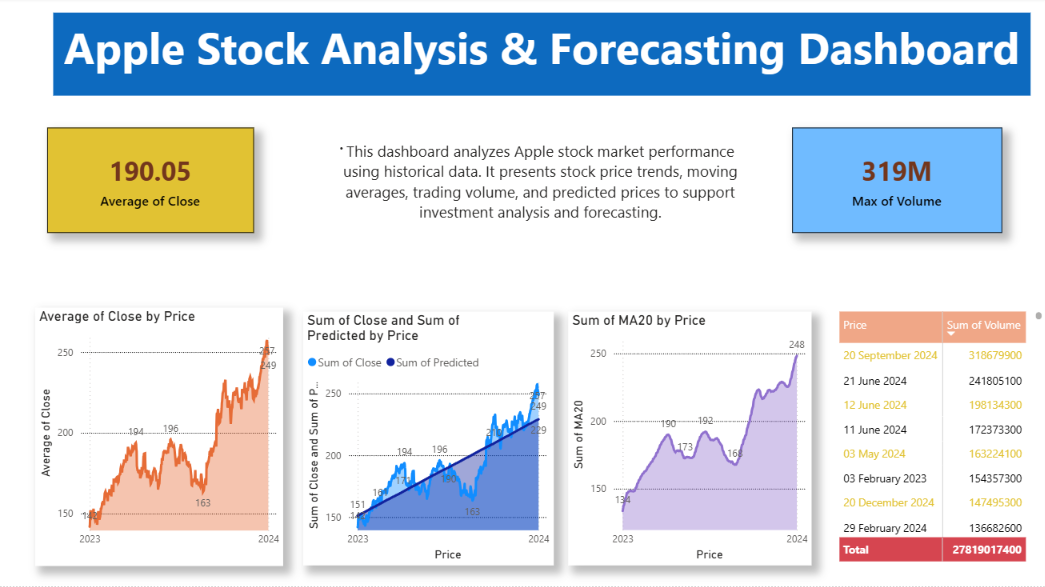

The dashboard page shown, as its layout file describes it:
{"tool":"powerbi","page":{"name":"Page 1","canvas":[1280,720],"ordinal":0},"visuals":[{"type":"lineChart","fields":{"Category":["apple_stock_data.Price"],"Y":["Avg(apple_stock_data.Close)"]},"box":[43.9,378.7,303.3,315.6],"z":0},{"type":"card","fields":{"Values":["Avg(apple_stock_data.Close)"]},"box":[59,159.2,252.5,129],"z":1},{"type":"card","fields":{"Values":["Max(apple_stock_data.Volume)"]},"box":[970.2,159.2,256.6,129],"z":2},{"type":"lineChart","fields":{"Category":["apple_stock_data.Price"],"Y":["Sum(apple_stock_data.Close)","Sum(apple_stock_data.Predicted)"]},"box":[371.9,384.2,306,310.1],"z":3},{"type":"lineChart","fields":{"Category":["apple_stock_data.Price"],"Y":["Sum(apple_stock_data.MA20)"]},"box":[695.7,384.2,297.8,310.1],"z":4},{"type":"tableEx","fields":{"Values":["apple_stock_data.Price","Sum(apple_stock_data.Volume)"]},"box":[1020.9,378.7,259.3,315.6],"z":6},{"type":"textbox","box":[65.9,17.8,1195.2,101.5],"z":7},{"type":"textbox","box":[347.2,170.2,575,130.4],"z":8}]}

Visuals, with their boxes in screenshot pixels (x1, y1, x2, y2), scaled from the page's 1280x720 canvas onto the 1045x587 screenshot:
lineChart - apple_stock_data.Price x Avg(apple_stock_data.Close): 36, 309, 283, 566
card - Avg(apple_stock_data.Close): 48, 130, 254, 235
card - Max(apple_stock_data.Volume): 792, 130, 1002, 235
lineChart - apple_stock_data.Price x Sum(apple_stock_data.Close): 304, 313, 553, 566
lineChart - apple_stock_data.Price x Sum(apple_stock_data.MA20): 568, 313, 811, 566
tableEx - apple_stock_data.Price x Sum(apple_stock_data.Volume): 833, 309, 1044, 566
textbox: 54, 15, 1030, 97
textbox: 283, 139, 753, 245
